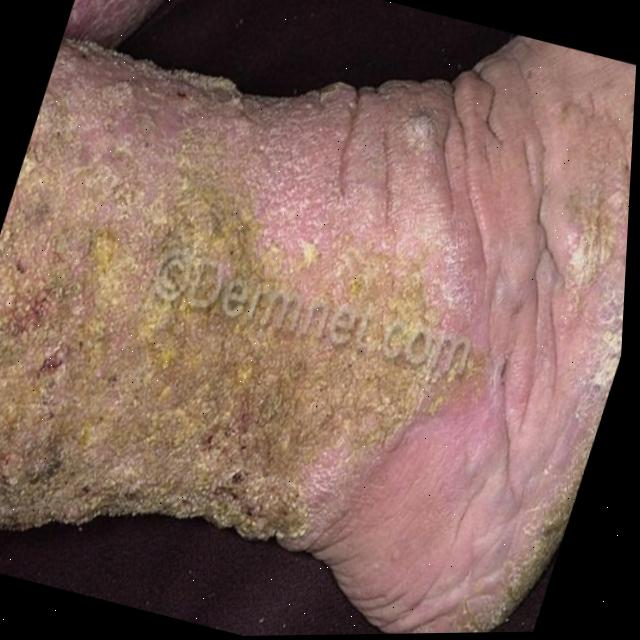Eczema: (0, 26, 518, 596), (402, 51, 637, 634)
